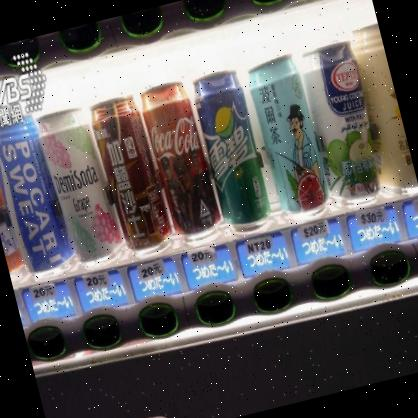can: (298, 40, 392, 214), (85, 88, 176, 260), (34, 100, 126, 268), (188, 62, 276, 234), (137, 78, 225, 243), (247, 54, 332, 222), (0, 109, 76, 278)
